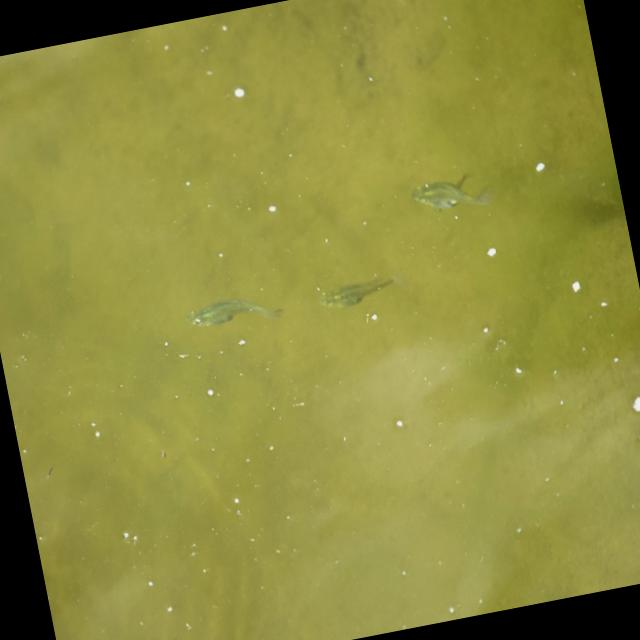Sivrisinek Baligi: (184, 291, 282, 347), (312, 269, 402, 323), (407, 169, 492, 225)
